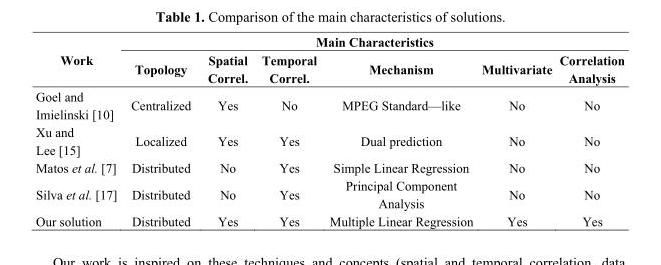table: (35, 34, 623, 227)
table column: (322, 34, 476, 227), (35, 34, 123, 227), (476, 34, 555, 227), (123, 34, 198, 227), (254, 34, 322, 227), (555, 34, 623, 227), (198, 34, 254, 227)
table column header: (35, 34, 623, 86)
table row: (35, 50, 623, 86), (35, 86, 623, 122), (35, 122, 623, 158), (35, 176, 623, 211), (35, 158, 623, 176), (35, 34, 623, 50), (35, 211, 623, 227)
table spanning cell: (123, 34, 623, 50), (35, 34, 123, 86)
